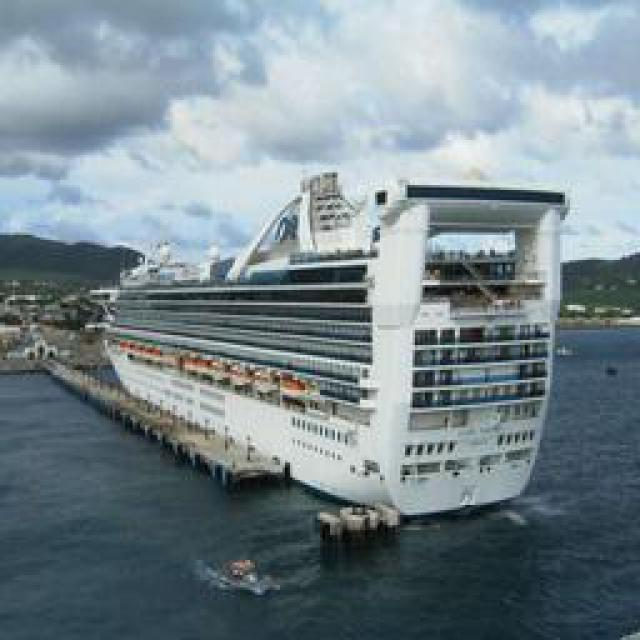Ship: (112, 179, 562, 522)
